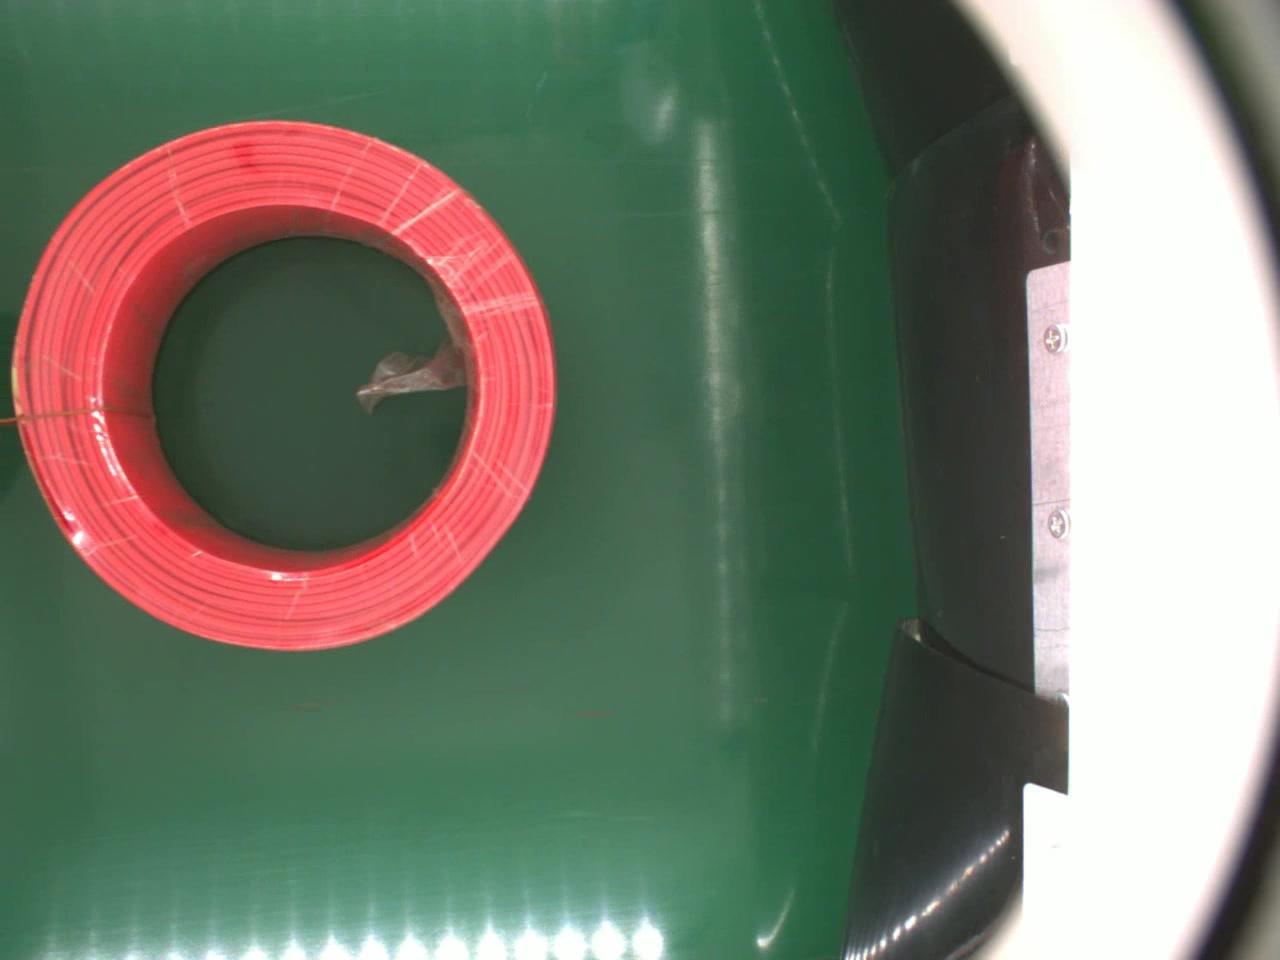red: (9, 117, 562, 653)
